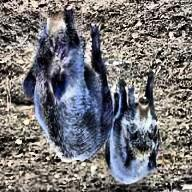boar: (30, 10, 111, 170), (101, 68, 166, 192)
